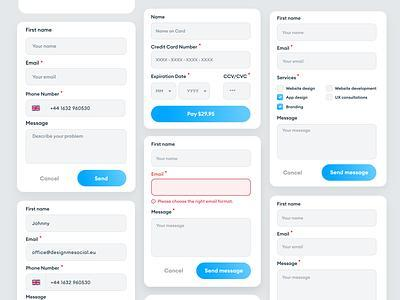button: (152, 106, 253, 124), (321, 165, 378, 182), (198, 263, 251, 280), (78, 171, 128, 187)
checkbox: (278, 86, 286, 93), (327, 86, 334, 93), (327, 95, 335, 101), (278, 95, 285, 101), (278, 105, 285, 111)
dropdown: (181, 83, 212, 100), (152, 84, 179, 100)
input: (277, 24, 378, 44), (153, 52, 253, 70), (281, 54, 379, 72), (27, 38, 127, 55), (27, 69, 127, 86), (153, 180, 252, 197), (27, 216, 126, 232), (151, 25, 250, 41), (279, 240, 378, 256), (152, 153, 254, 168), (28, 245, 126, 260), (278, 212, 377, 226), (46, 101, 127, 118), (49, 275, 127, 292), (225, 85, 250, 99)
label: (152, 44, 203, 51), (152, 73, 192, 81), (161, 266, 187, 277), (26, 91, 66, 98), (27, 265, 65, 272), (276, 14, 304, 23), (278, 260, 303, 268), (282, 170, 307, 178), (224, 73, 252, 80), (152, 208, 176, 216), (276, 45, 296, 54), (26, 27, 55, 33), (26, 120, 50, 127), (336, 96, 369, 101), (151, 142, 177, 148), (39, 176, 61, 183), (27, 207, 52, 213), (287, 87, 317, 92), (278, 202, 302, 208), (152, 171, 171, 178), (336, 88, 379, 91), (27, 60, 45, 67), (278, 116, 299, 122), (278, 76, 298, 82), (286, 96, 310, 101), (277, 231, 294, 238), (26, 237, 45, 243), (286, 105, 305, 110), (151, 15, 166, 21)
